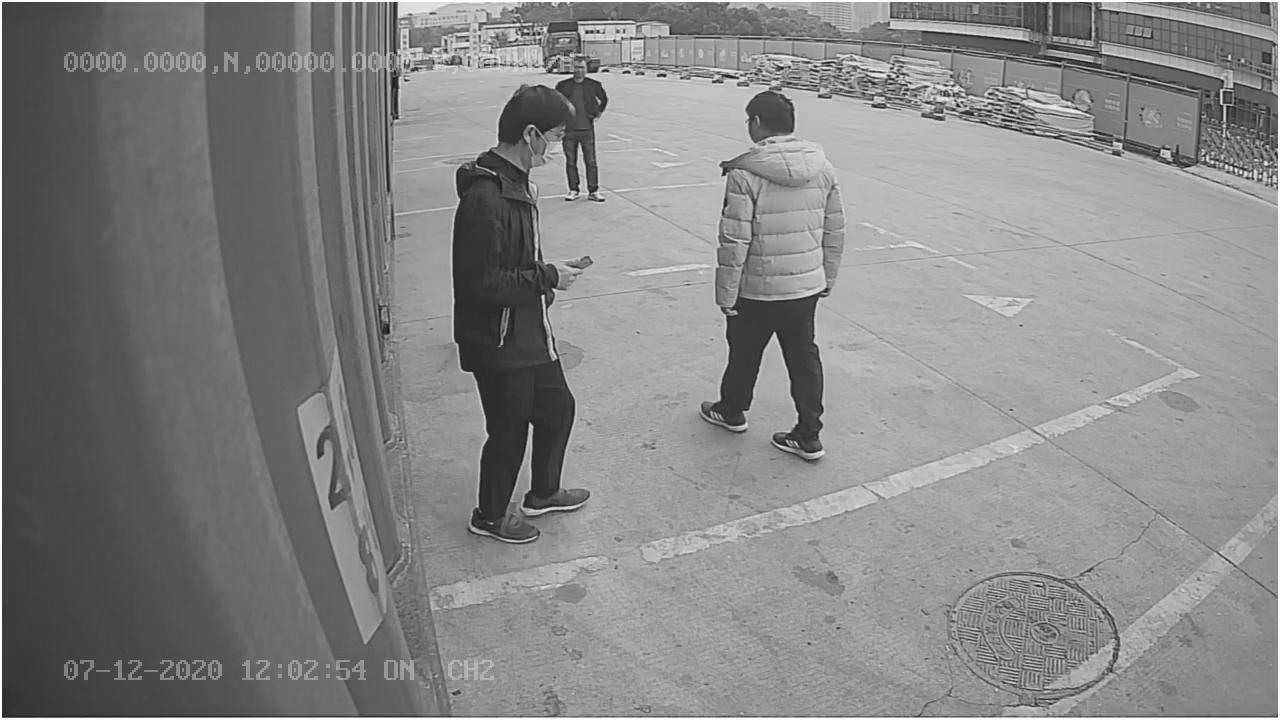person: (700, 91, 848, 472)
